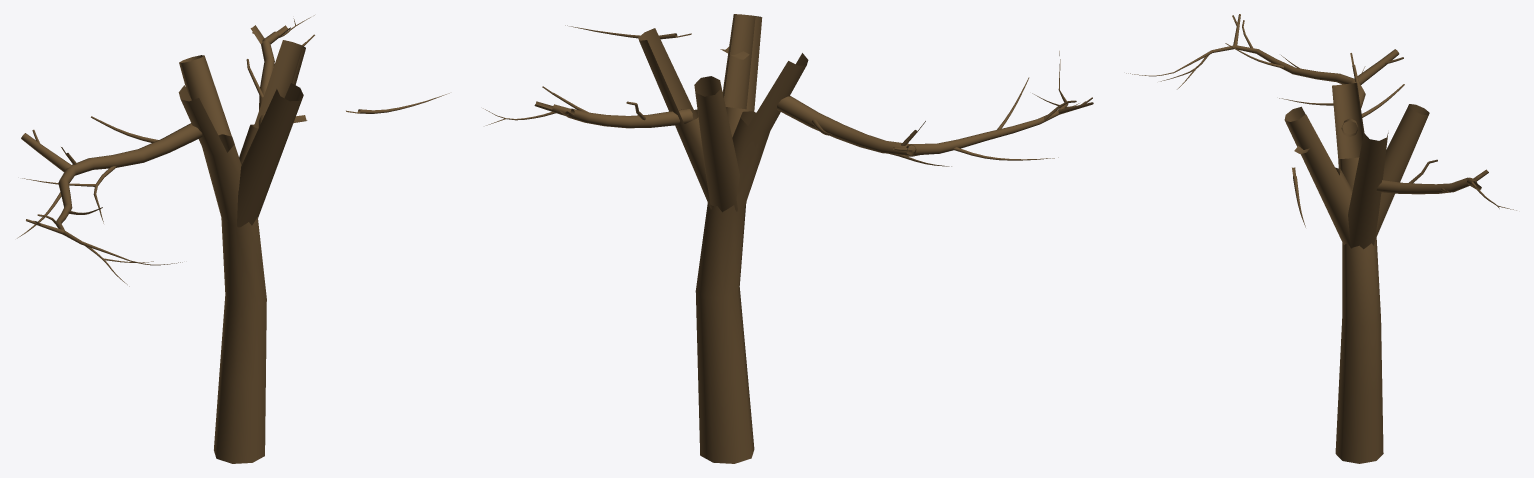
File: Tree_Trunk_Lower.fbx
The picture shows the model from 3 angles, left to right: view 1: azimuth 30°, elevation 25°; view 2: azimuth 150°, elevation 25°; view 3: azimuth 270°, elevation 25°; orthographic projection. The views are drawn at different scales.
Visible parts, largest first — view 1: Trunk_Lower; view 2: Trunk_Lower; view 3: Trunk_Lower.
Part boxes in pixels (<box>): Trunk_Lower: <box>17,15,449,463</box>; Trunk_Lower: <box>483,14,1093,463</box>; Trunk_Lower: <box>1126,14,1516,463</box>.
Bounding box in the file's own units: 9.62 × 7.68 × 7.91.
